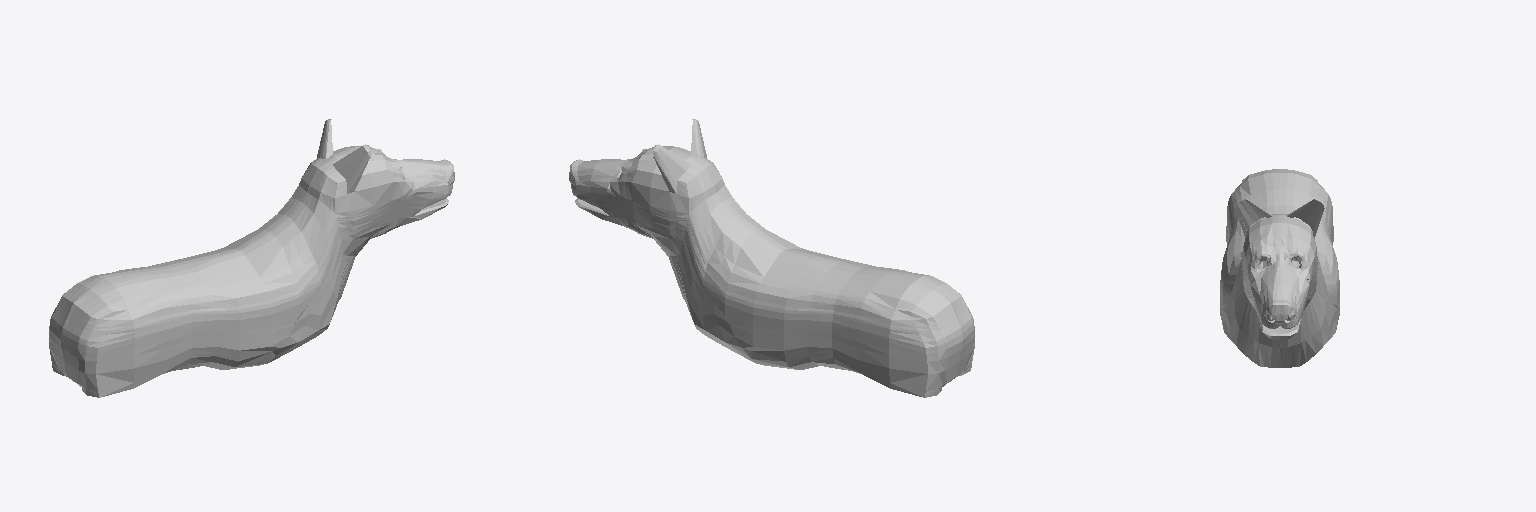
File: dog_body_.obj
3 renders of one model, left to right at view 1: azimuth 30°, elevation 25°; view 2: azimuth 150°, elevation 25°; view 3: azimuth 270°, elevation 25°, orthographic.
Parts seen in each view (by area): view 1: dog_Cube.001; view 2: dog_Cube.001; view 3: dog_Cube.001.
Boxes of the visible parts, x1,y1,x2,y2 form: dog_Cube.001: [49, 119, 454, 397]; dog_Cube.001: [569, 119, 974, 397]; dog_Cube.001: [1220, 169, 1339, 367].
Size of the model in its own units: 5.44 by 2.71 by 1.45.